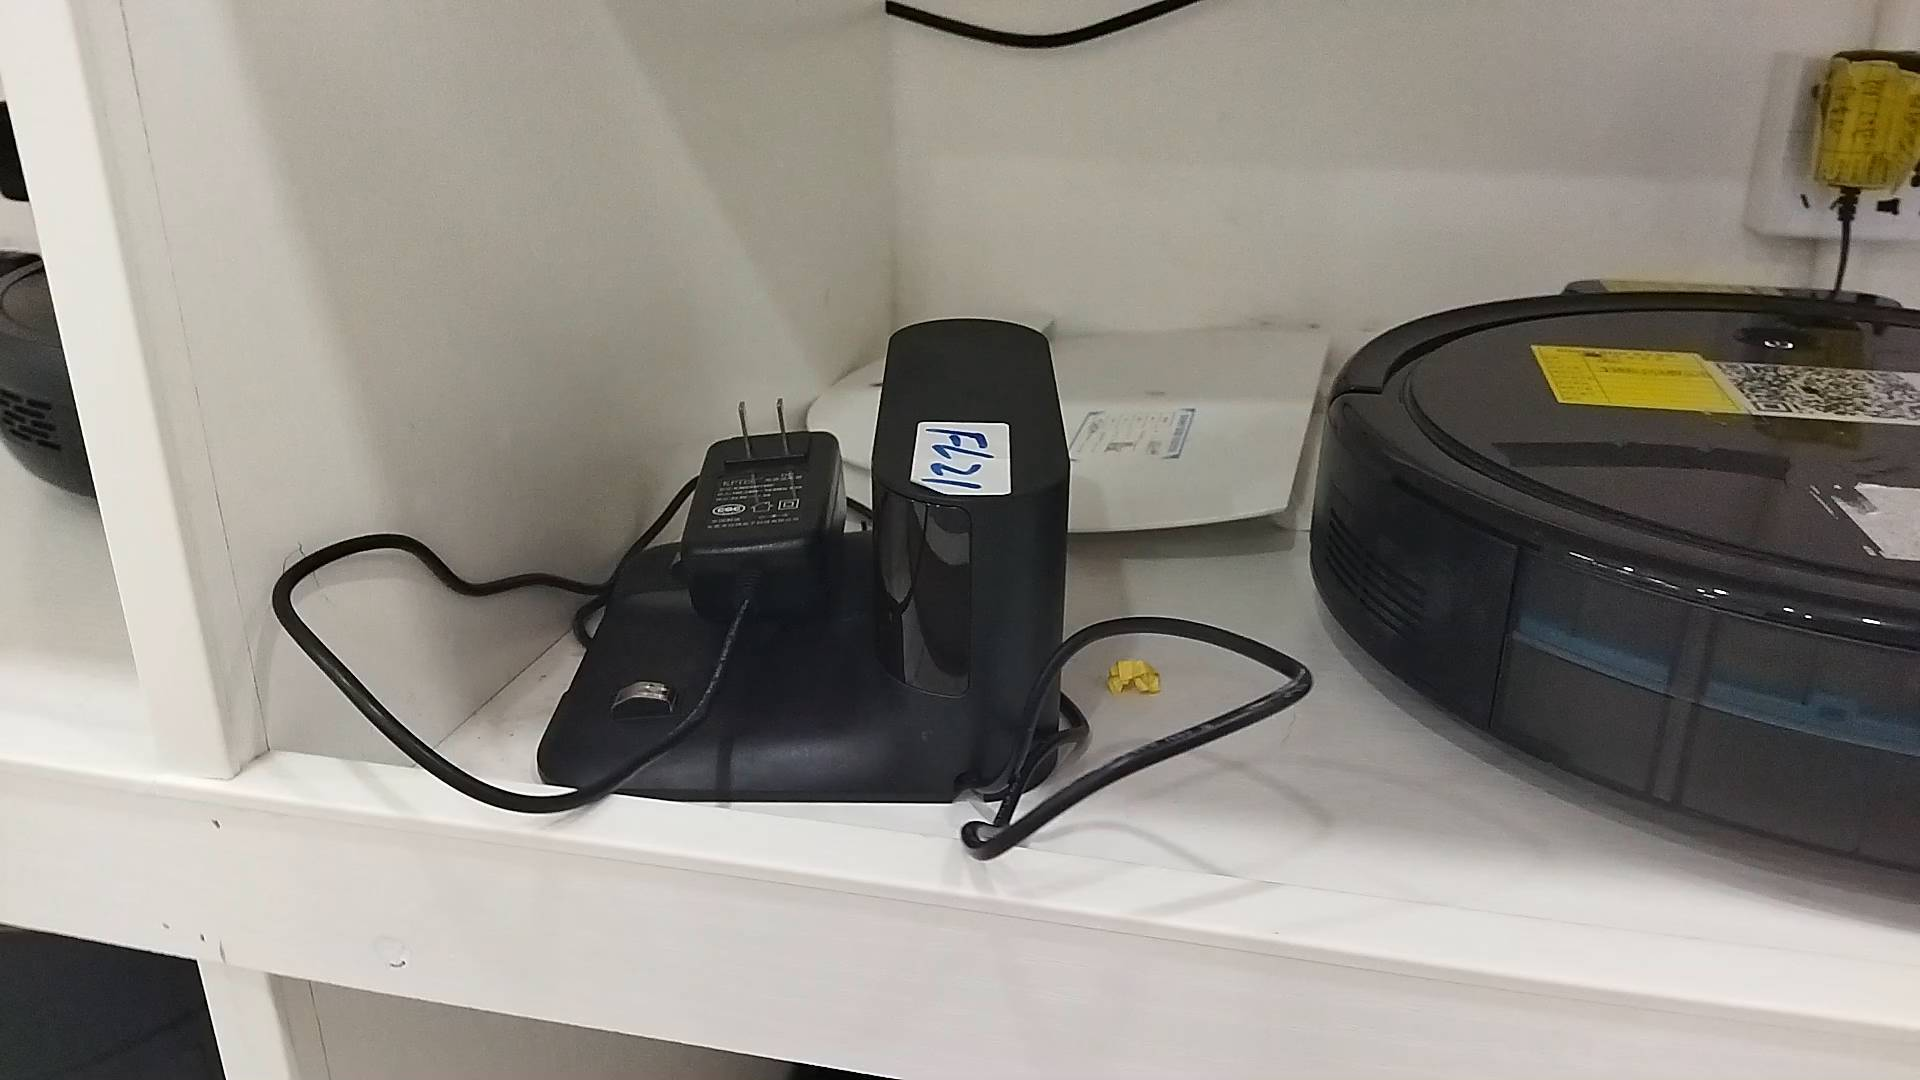recharge seat: (535, 316, 1071, 803)
